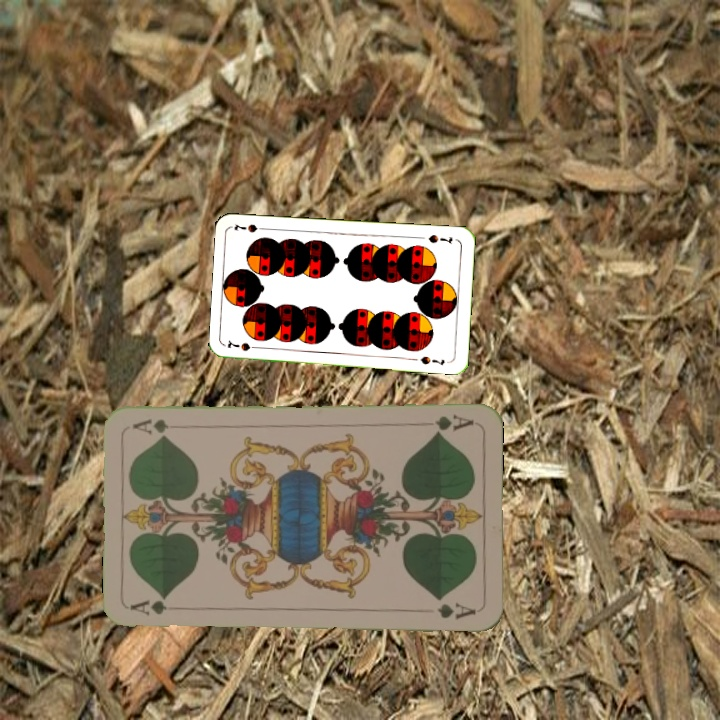GA: (431, 411, 477, 438), (127, 596, 169, 617)
S7: (223, 337, 264, 353), (424, 230, 455, 247)
